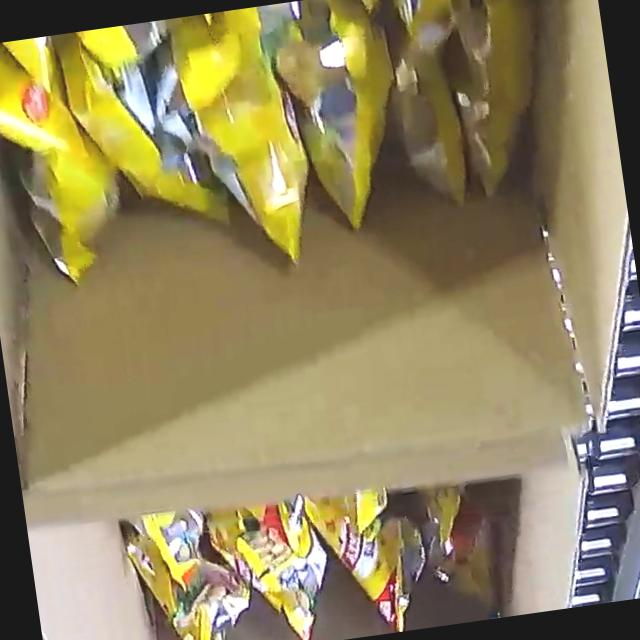salted: (0, 0, 603, 309), (148, 461, 527, 640)
